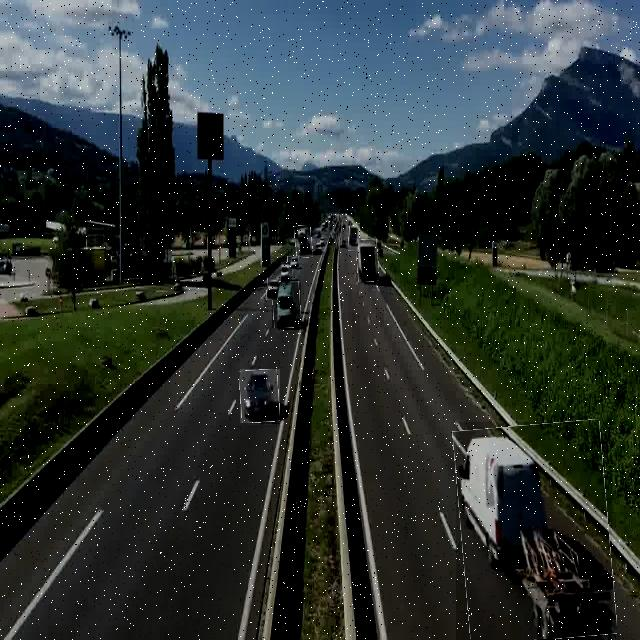Car: (240, 369, 280, 423), (272, 282, 301, 328), (267, 278, 278, 300), (282, 262, 292, 284), (288, 256, 299, 268)
Truck: (456, 422, 612, 640), (356, 240, 379, 282), (295, 226, 313, 258), (348, 223, 360, 251)
